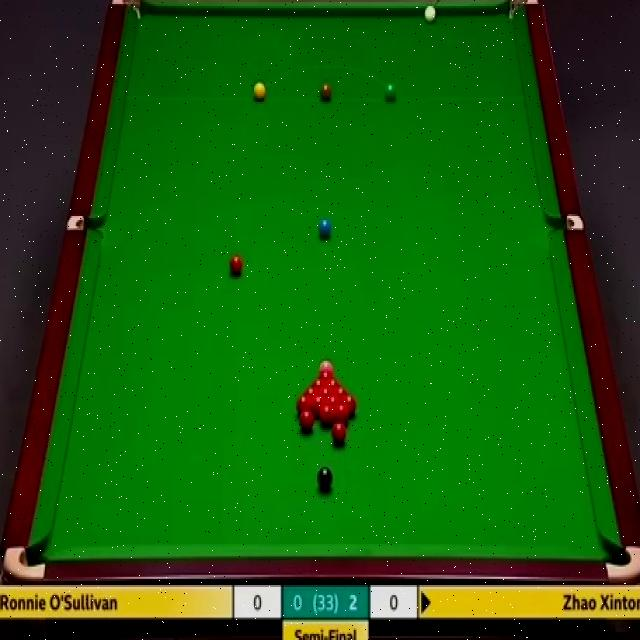black-ball: (317, 466, 334, 493)
blue-ball: (317, 217, 332, 240)
brown-ball: (320, 82, 332, 102)
green-ball: (383, 81, 397, 102)
pink-ball: (319, 358, 335, 373)
red-ball: (228, 253, 245, 281), (331, 423, 349, 446), (332, 404, 350, 425), (299, 409, 314, 431), (319, 404, 334, 425), (326, 396, 341, 415), (296, 394, 312, 411), (341, 396, 357, 411), (312, 395, 325, 413), (303, 386, 319, 396), (318, 387, 334, 396), (326, 378, 342, 387), (318, 370, 334, 378), (334, 388, 349, 396), (311, 378, 326, 386)
white-ball: (424, 2, 439, 24)
yellow-ball: (254, 82, 266, 102)
